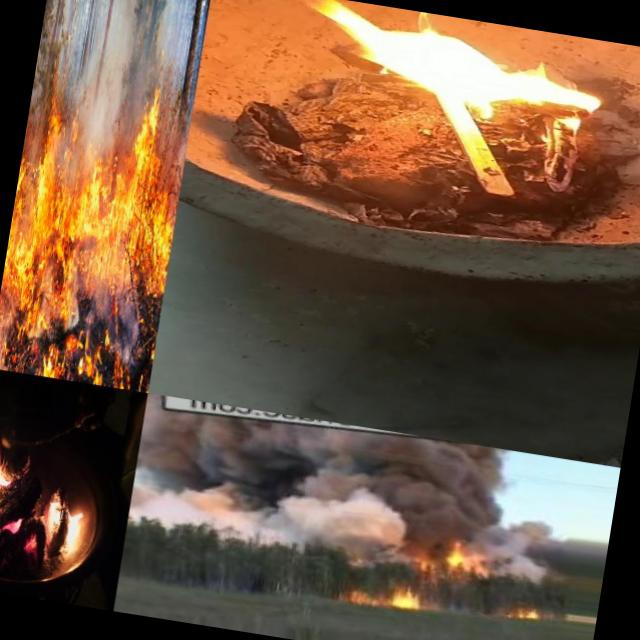fire: (266, 0, 636, 171), (0, 69, 195, 393), (349, 576, 444, 618), (442, 538, 494, 580), (44, 496, 85, 546), (502, 600, 554, 627), (0, 452, 15, 514)
smoke: (127, 432, 429, 570)
